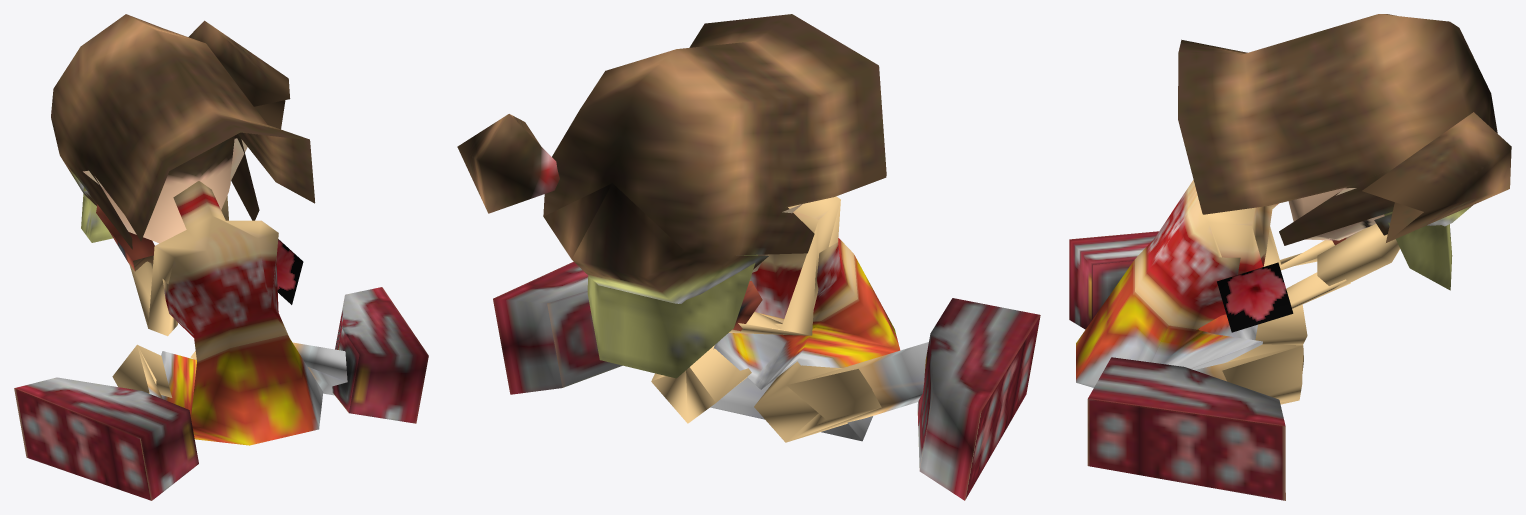
Rendered from icon_e.ico.obj.
3 views of the same model, side by side, from view 1: azimuth 30°, elevation 25°; view 2: azimuth 150°, elevation 25°; view 3: azimuth 270°, elevation 25° (orthographic). The views are drawn at different scales.
Bounding box in the file's own units: 2.76 × 2.44 × 2.46.
1 material, 1 textured.
